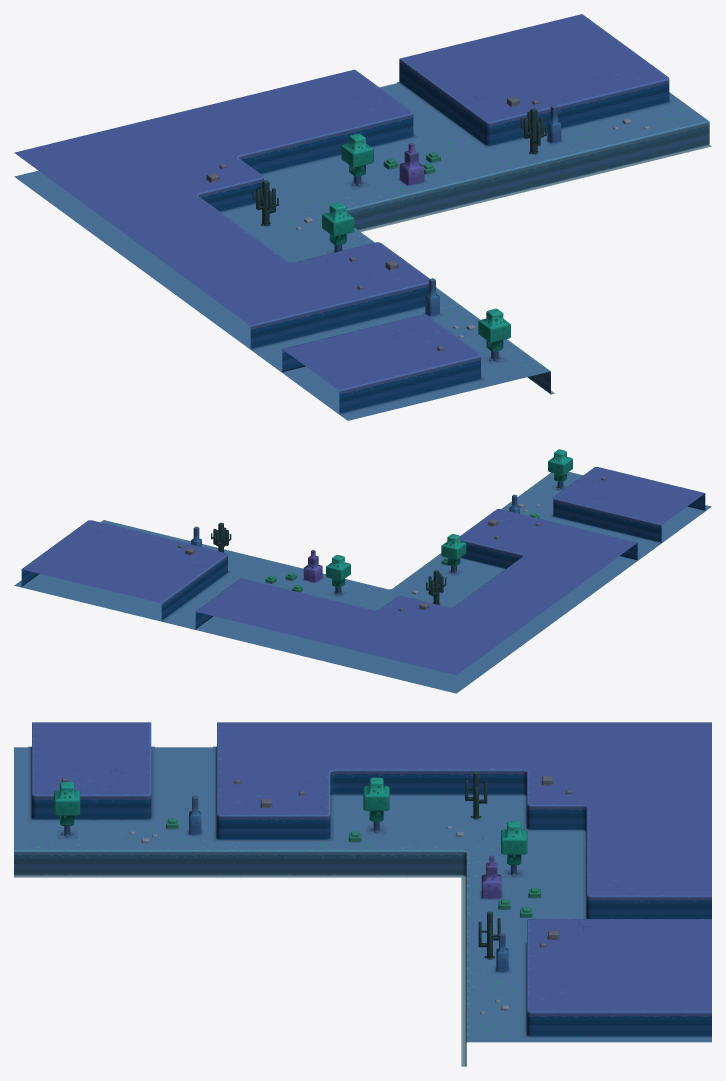
The model's file is C_mountain2_out_RD.fbx.
3 views of the same model, one above another, from view 1: azimuth 30°, elevation 25°; view 2: azimuth 150°, elevation 25°; view 3: azimuth 270°, elevation 25° (orthographic). The views are drawn at different scales.
Parts seen in each view (by area): view 1: C_mountain2_out_RD; view 2: C_mountain2_out_RD; view 3: C_mountain2_out_RD.
Boxes of the visible parts, x1,y1,x2,y2 form: C_mountain2_out_RD: [14, 14, 711, 420]; C_mountain2_out_RD: [14, 449, 711, 693]; C_mountain2_out_RD: [14, 722, 711, 1066].
Bounding box in the file's own units: 117 × 13.92 × 117.
